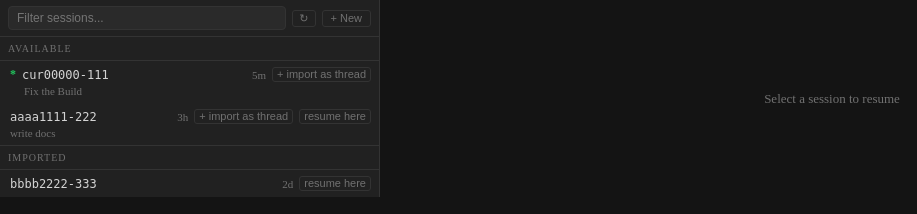
it: SessionsPanel › refreshes the list
Expected: the text "cur00000-111" is shown, x1=22 y1=68 x2=109 y2=82
Hover over the button "↻": (304, 18) x1=292 y1=10 x2=316 y2=26
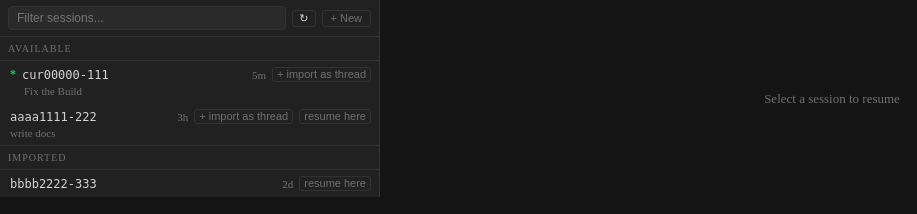
Move the pointer off the button "↻", box x1=292 y1=10 x2=316 y2=26
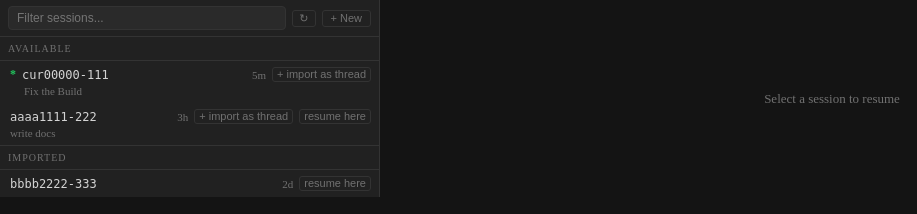
Click the button "↻": (304, 18) x1=292 y1=10 x2=316 y2=26
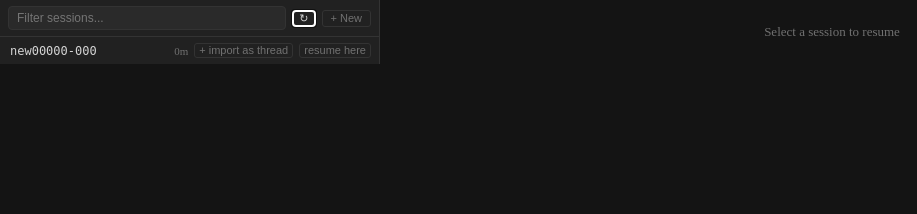
Expected: the text "new00000-000" is shown, x1=10 y1=44 x2=97 y2=58
Expected: the text "0m" is shown, x1=174 y1=44 x2=188 y2=56
